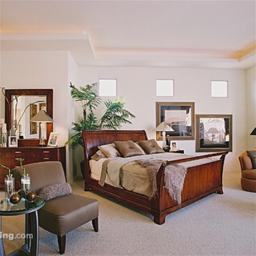Cama: (93, 138, 226, 218)
